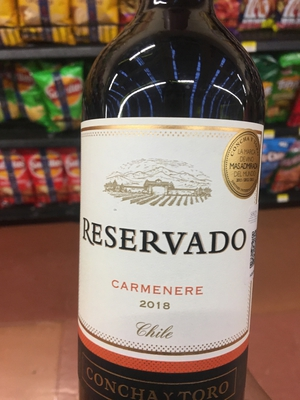reservado carmenere: (79, 5, 267, 400)
